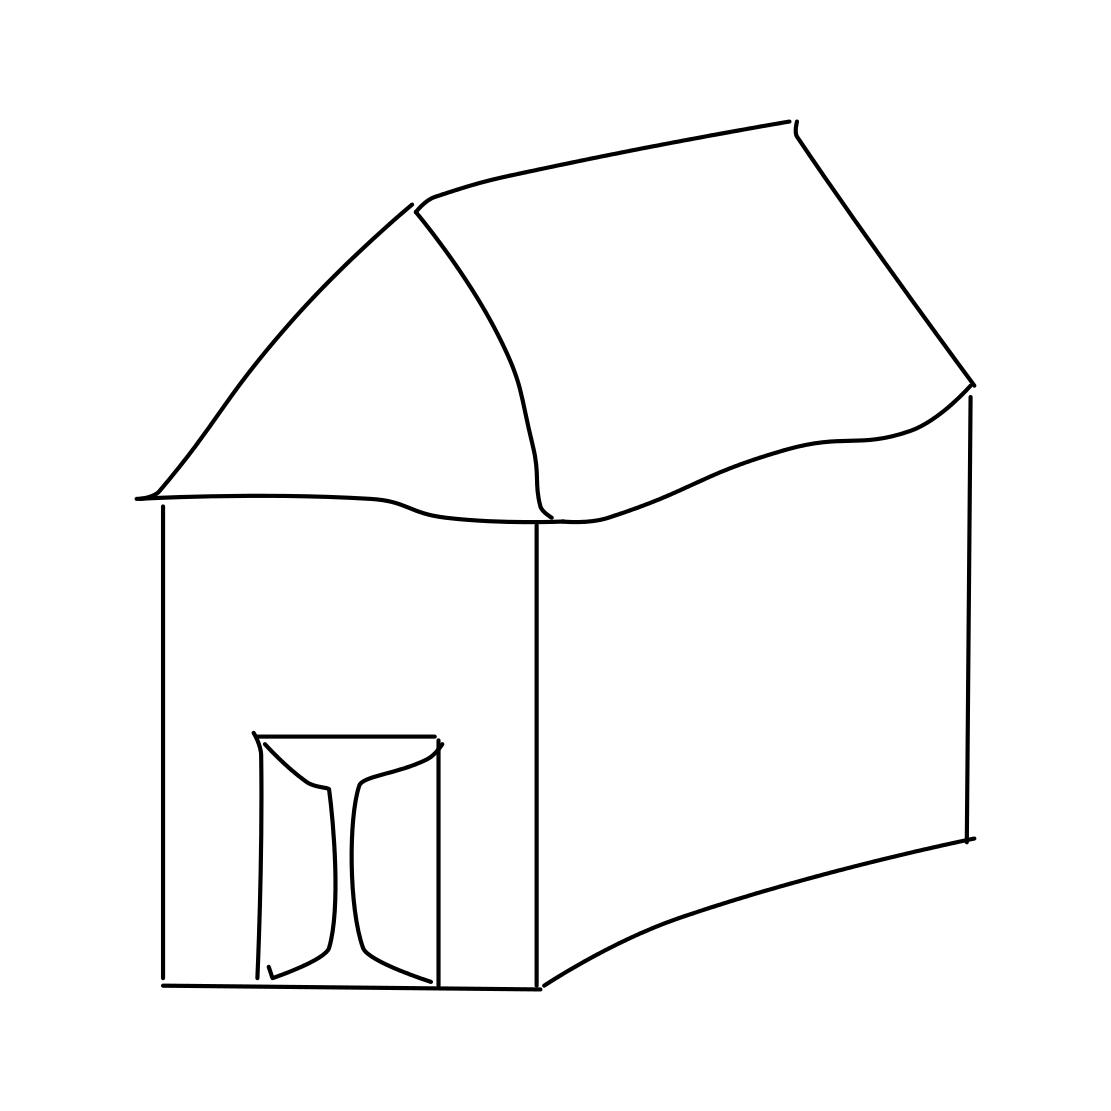House: (44, 96, 1038, 1003)
